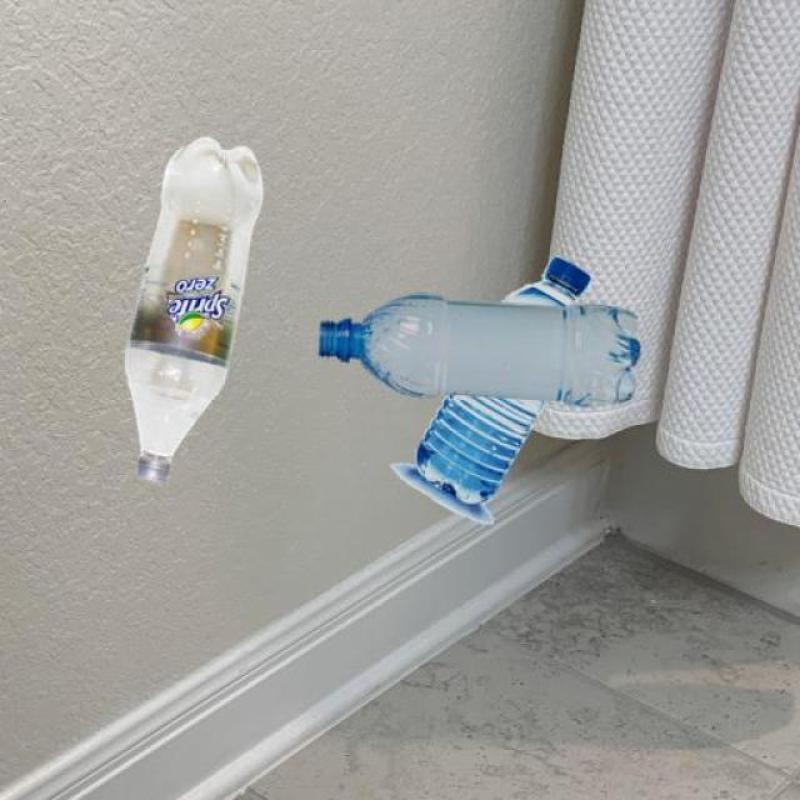botella: (122, 136, 266, 484), (414, 257, 594, 507), (318, 294, 640, 407)
